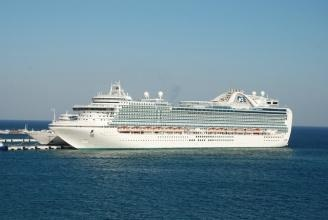youlun: (53, 83, 298, 152)
